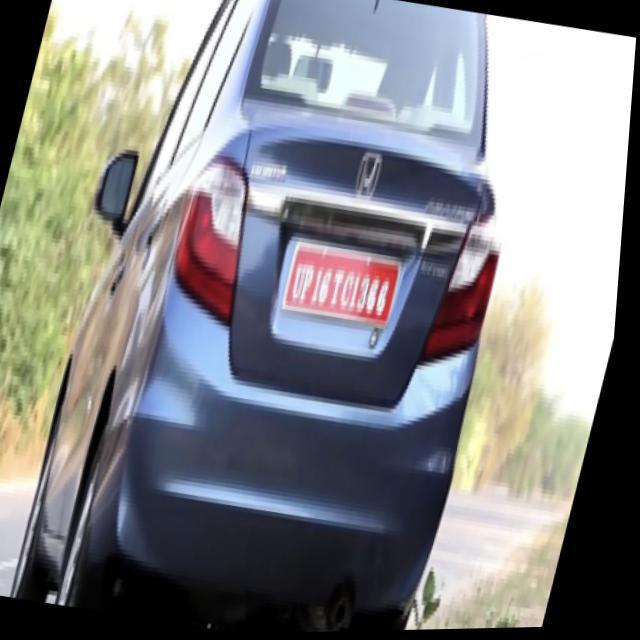license_plate: (280, 220, 414, 336)
